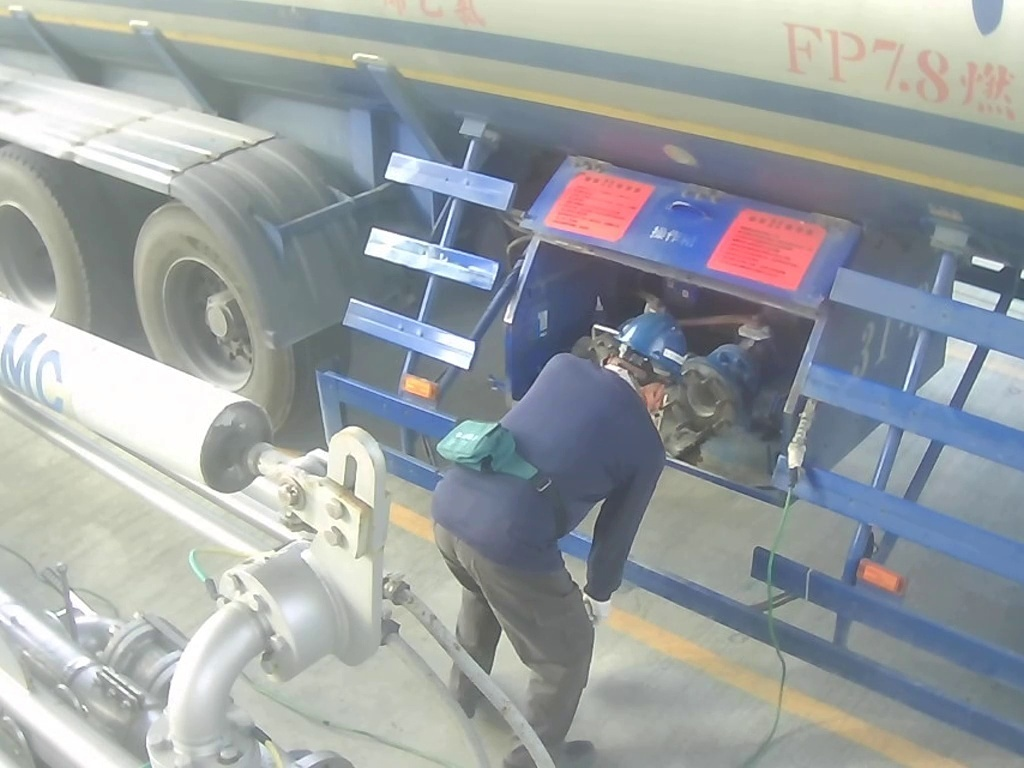helmet: (608, 304, 695, 410)
pack: (436, 419, 535, 482)
person: (420, 305, 708, 768)
